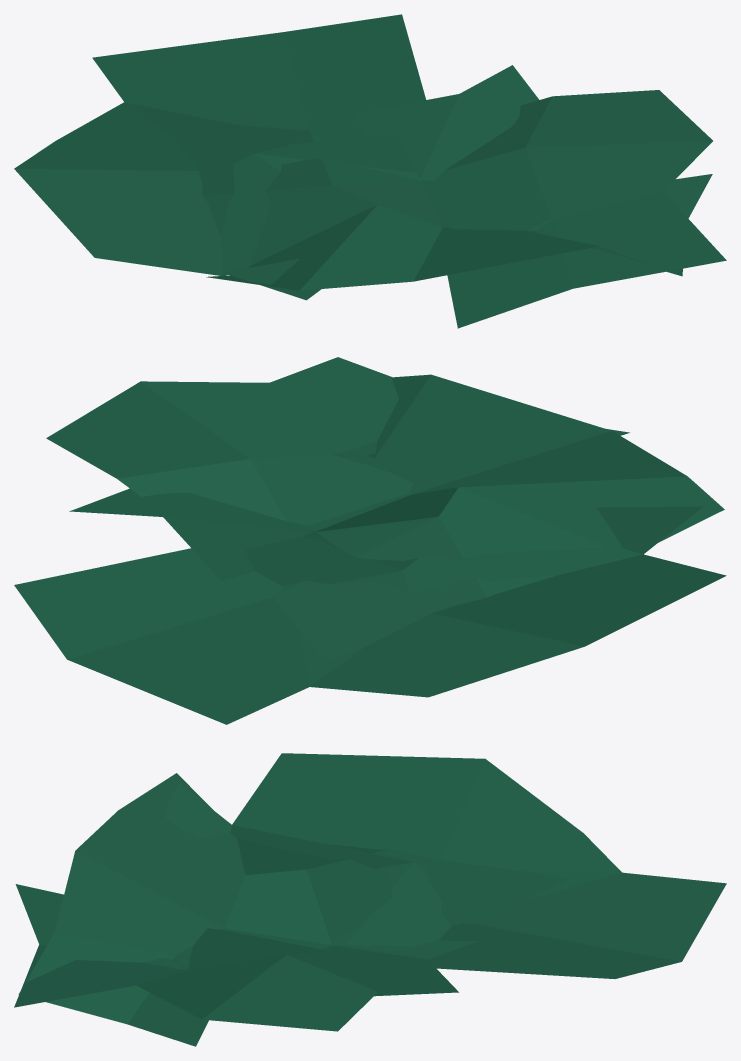
Rendered from decoration_grass_2.fbx.
3 views of the same model, one above another, from view 1: azimuth 30°, elevation 25°; view 2: azimuth 150°, elevation 25°; view 3: azimuth 270°, elevation 25° (orthographic). The views are drawn at different scales.
Parts seen in each view (by area): view 1: grass_2; view 2: grass_2; view 3: grass_2.
Part boxes in pixels (x1,y1,x2,y2): grass_2: (14, 14, 726, 328); grass_2: (14, 357, 726, 724); grass_2: (14, 753, 726, 1046).
Size of the model in its own units: 276 by 16.49 by 296.
